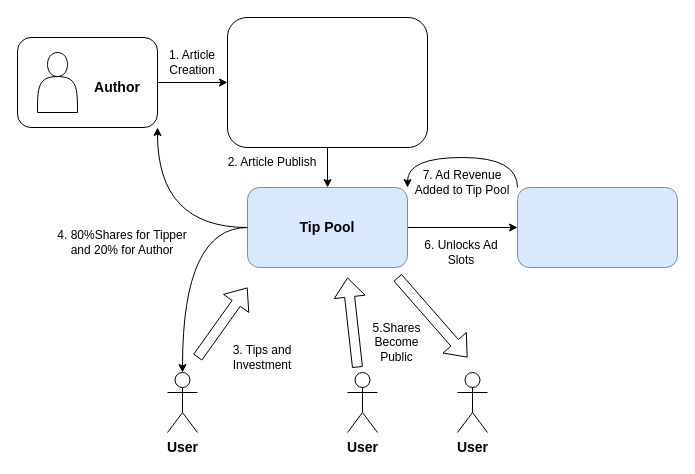
Some shapes in this 695 by 474 pixel diagram are drawn without their labels. Each missing label, with the centre of its shape:
"Ad Auction" goes at point (597, 227).
"Article Each tip is regarded as an investment in the article." goes at point (327, 82).
